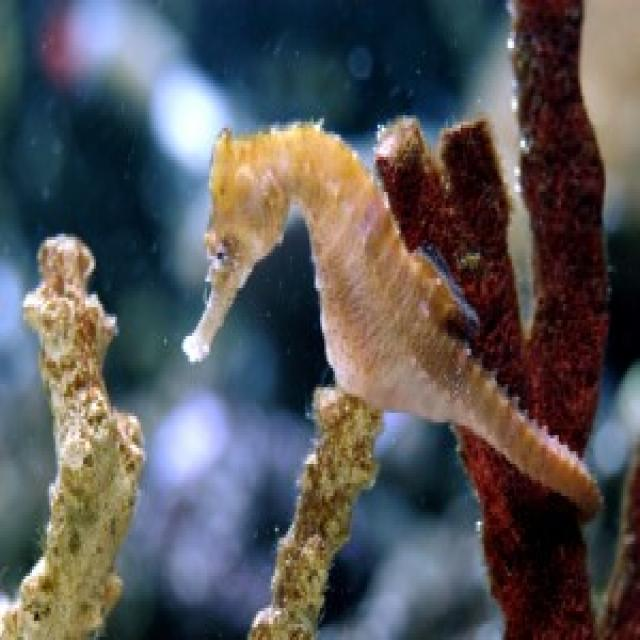Seahorse: (178, 119, 600, 509)
